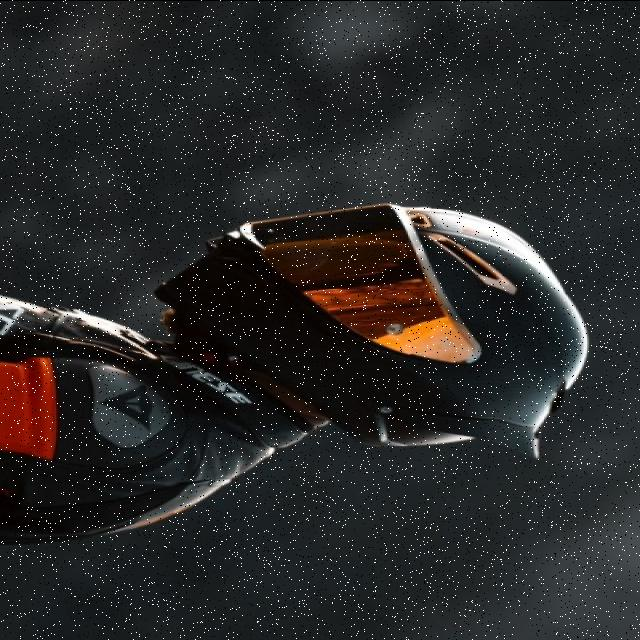Helmet: (154, 201, 589, 463)
